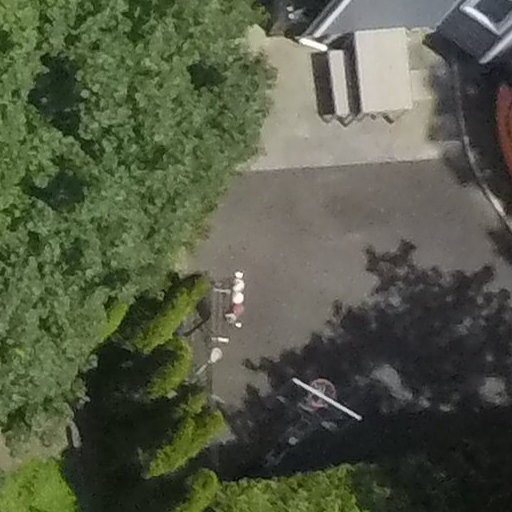basketball: (257, 363, 369, 473)
container: (221, 310, 240, 327), (228, 277, 247, 292), (229, 292, 248, 305), (232, 303, 246, 317), (230, 268, 245, 281), (287, 12, 297, 20)
table: (321, 23, 421, 137)
